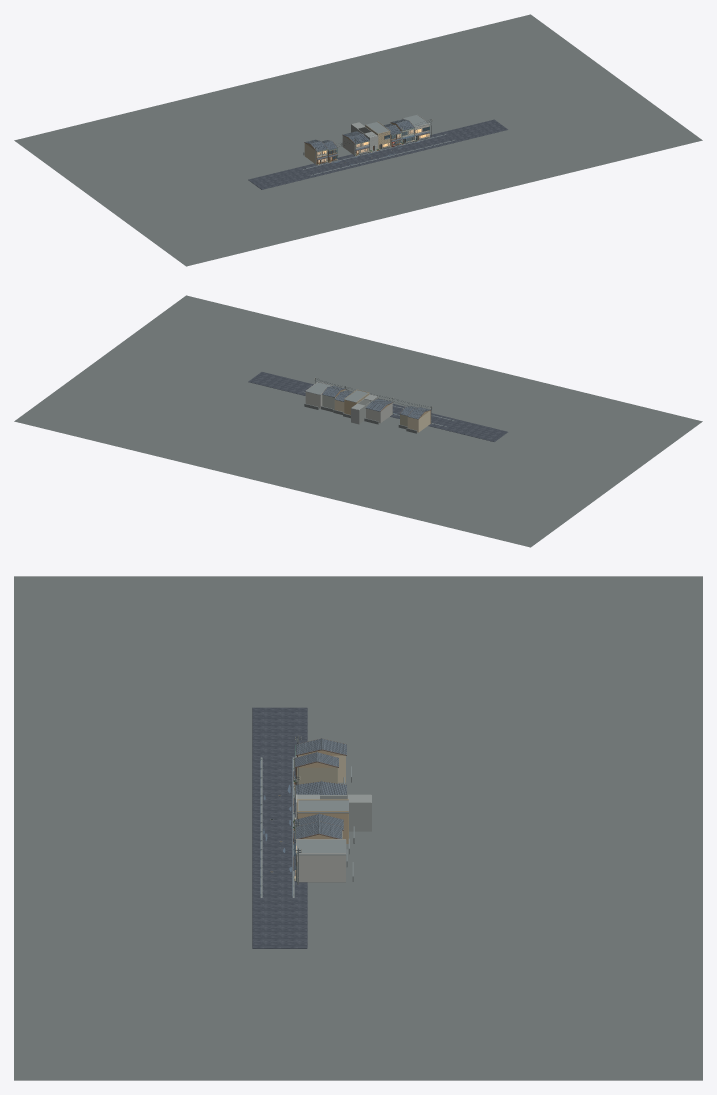
Rendered from street.glb.
3 renders of one model, top to bottom at view 1: azimuth 30°, elevation 25°; view 2: azimuth 150°, elevation 25°; view 3: azimuth 270°, elevation 25°, orthographic. The views are drawn at different scales.
Parts seen in each view (by area): view 1: Street / Wet foundation stone, Street / Rain-dark fine asphalt, Street / Unglazed ceramic roofing, Street / Precast gutter, Street / Wet tile crowns; view 2: Street / Wet foundation stone, Street / Rain-dark fine asphalt, Street / Wet tile crowns, Street / Unglazed ceramic roofing, Street / Rain limewash 1, Street / Precast gutter, Street / Rain limewash 0; view 3: Street / Wet foundation stone, Street / Rain-dark fine asphalt, Street / Wet tile crowns, Street / Unglazed ceramic roofing, Street / Precast gutter, Street / Rain limewash 1, Street / Concrete returns, Street / Rain limewash 2.
Boxes of the visible parts, x1,y1,x2,y2 form: Street / Wet foundation stone: (14, 14, 702, 266); Street / Rain-dark fine asphalt: (248, 119, 507, 189); Street / Unglazed ceramic roofing: (305, 119, 429, 159); Street / Precast gutter: (303, 115, 454, 175); Street / Wet tile crowns: (305, 119, 425, 158); Street / Wet foundation stone: (14, 295, 702, 547); Street / Rain-dark fine asphalt: (248, 372, 507, 441); Street / Wet tile crowns: (322, 385, 429, 418); Street / Unglazed ceramic roofing: (322, 386, 430, 419); Street / Rain limewash 1: (305, 382, 392, 423); Street / Precast gutter: (303, 382, 454, 430); Street / Rain limewash 0: (334, 400, 430, 432); Street / Wet foundation stone: (14, 576, 702, 1080); Street / Rain-dark fine asphalt: (252, 707, 307, 948); Street / Wet tile crowns: (293, 738, 346, 868); Street / Unglazed ceramic roofing: (293, 739, 346, 870); Street / Precast gutter: (260, 756, 354, 897); Street / Rain limewash 1: (296, 839, 345, 882); Street / Concrete returns: (296, 794, 371, 831); Street / Rain limewash 2: (297, 750, 348, 843).
Bounding box in the file's own units: 220 × 7.76 × 127.
Materials: 47 (2 with a texture image).
